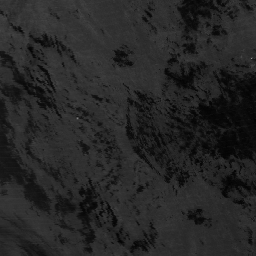Target: (75, 115, 80, 121)
